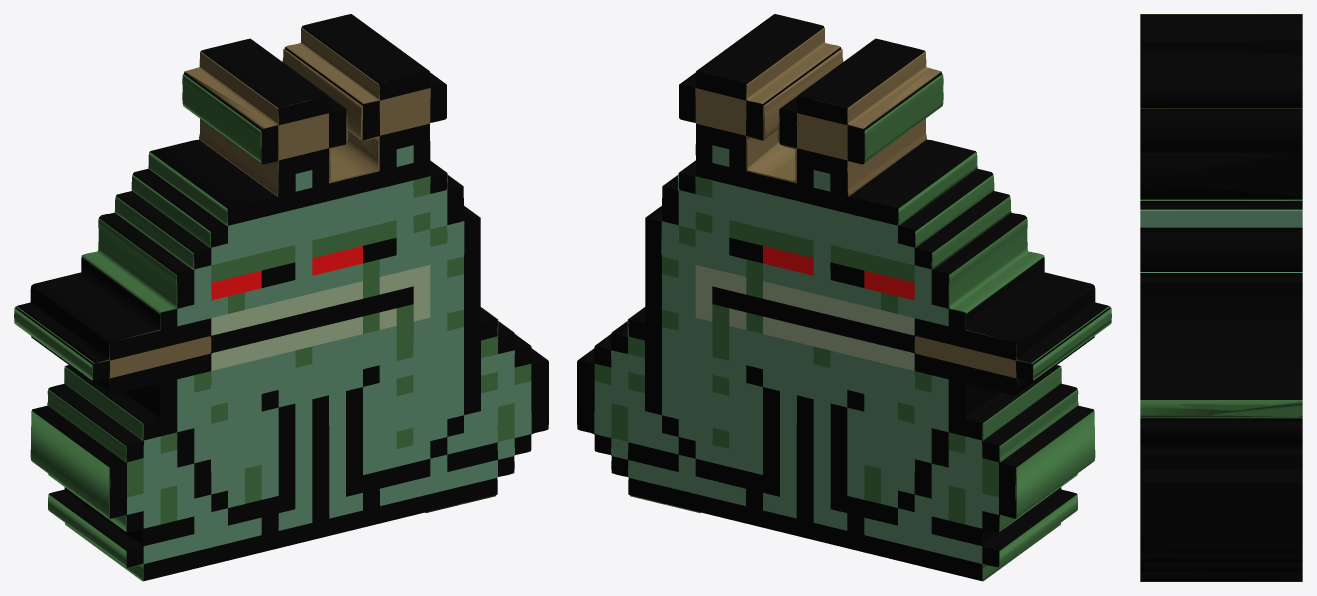
Rendered from Toadz_6754.glb.
3 renders of one model, left to right at view 1: azimuth 30°, elevation 25°; view 2: azimuth 150°, elevation 25°; view 3: azimuth 270°, elevation 25°, orthographic. The views are drawn at different scales.
Visible parts, largest first — view 1: Curve; view 2: Curve; view 3: Curve.
Boxes of the visible parts, x1,y1,x2,y2 form: Curve: (14, 14, 548, 581); Curve: (577, 14, 1111, 581); Curve: (1140, 14, 1302, 581).
Size of the model in its own units: 3.37 by 3.11 by 1.
